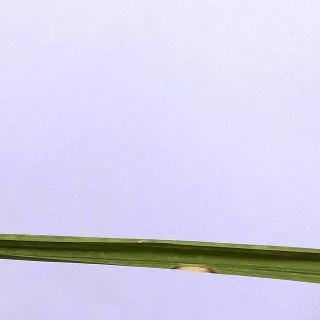Blast: (170, 254, 228, 288)
